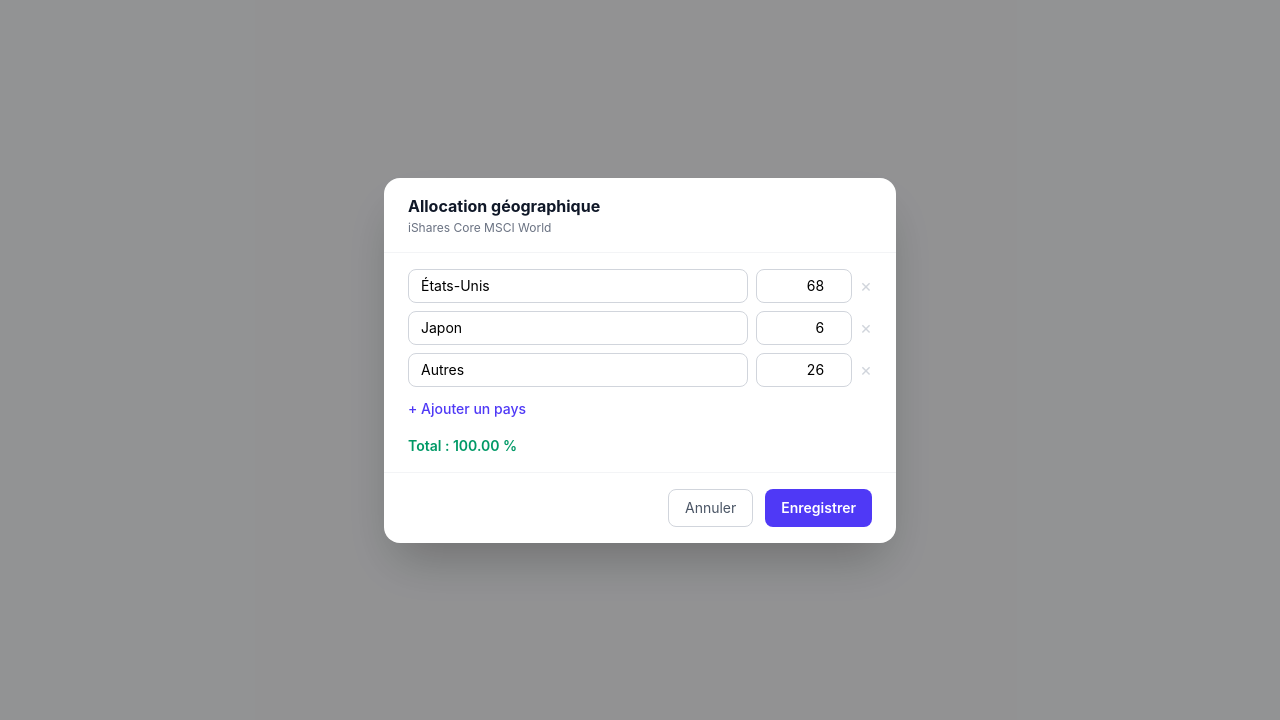
AdminAllocationModal › supprime une ligne au clic sur × (si plus d'une ligne)
The image size is (1280, 720).
Click the 1st button "×" at coordinates (866, 286), box [860,276,872,294]
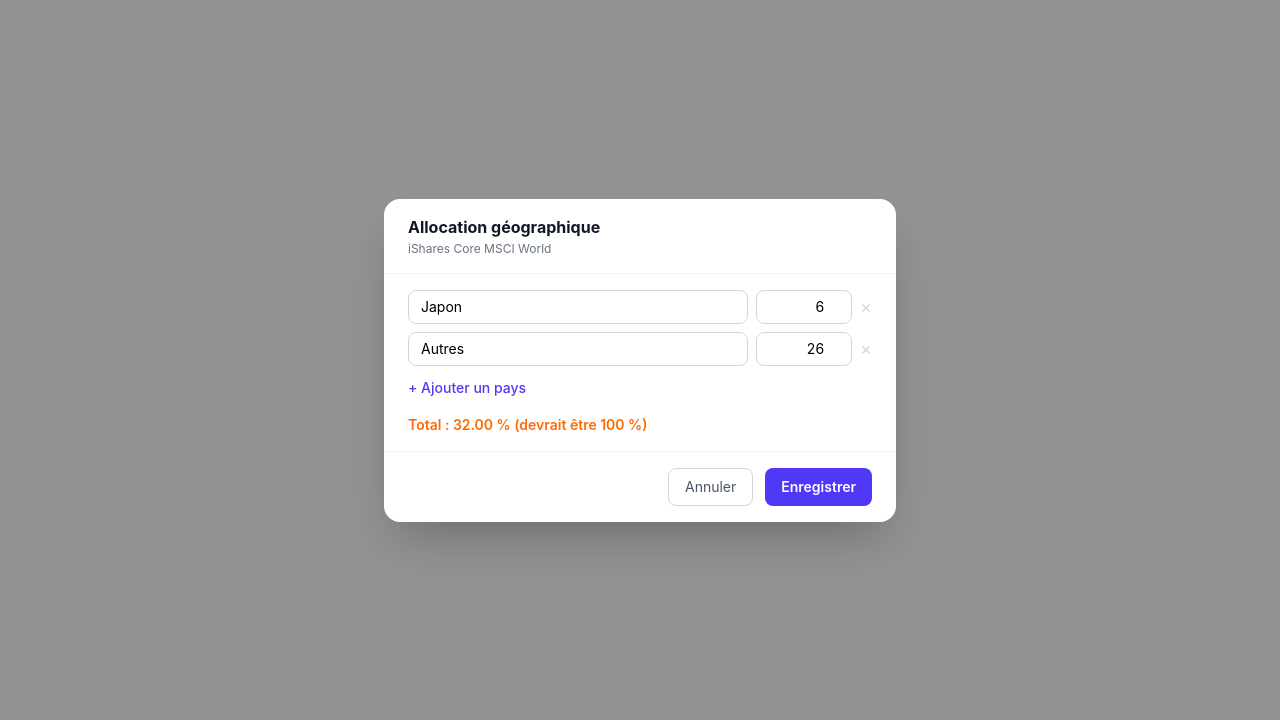
Check: the number of fields with placeholder "Pays" is 2, box [408,290,748,324]; [408,332,748,366]
